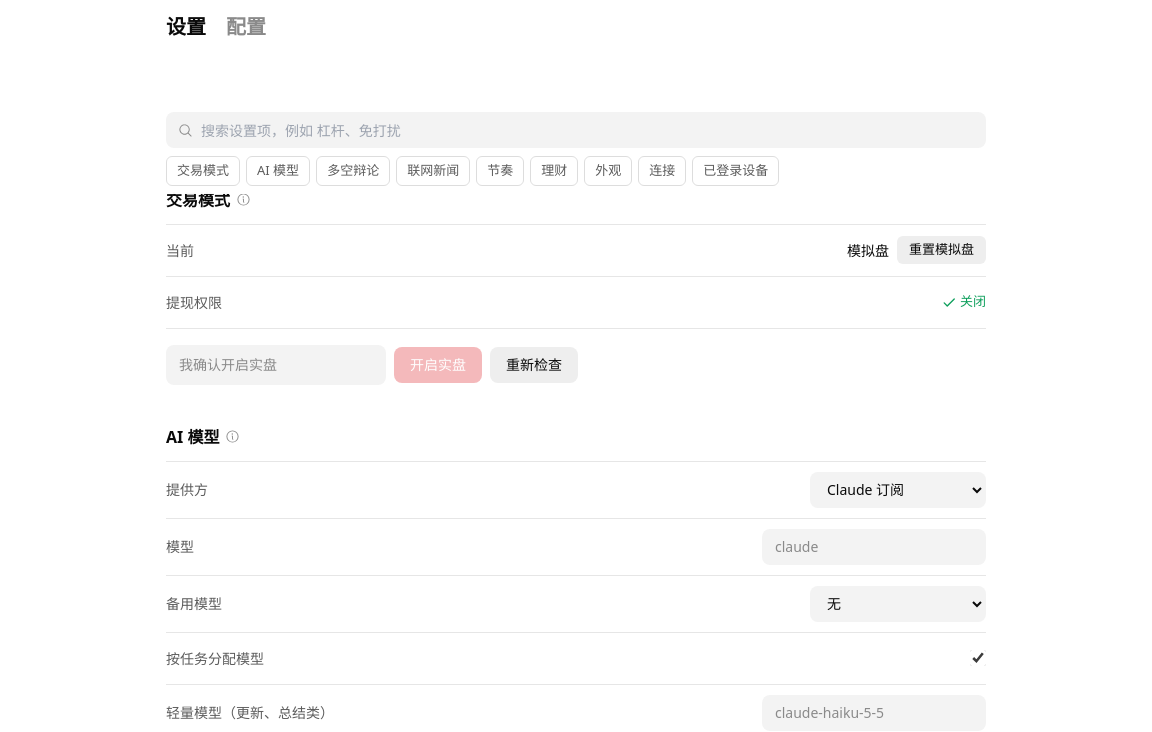
Test: Settings page (设置) › only enables going live once the checks pass and the confirm phrase matches
expect the text "模拟盘" is shown: met, box [847,240,889,260]
expect the text "提现权限" is shown: met, box [166,292,222,312]
Type "我确认" into the field with placeholder "我确认开启实盘". click: (276, 364)
box: [166,344,386,384]
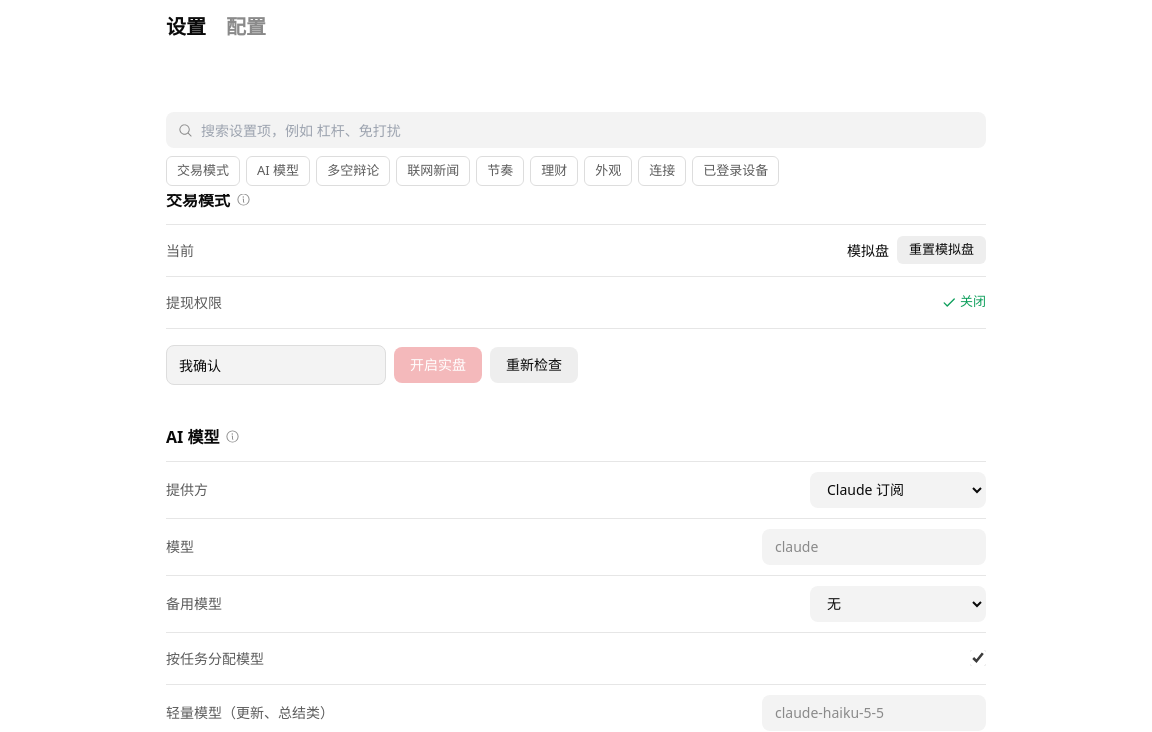
expect the button "开启实盘" is disabled: met, box [394,346,482,382]
Type "开启实盘" into the field with placeholder "我确认开启实盘". click: (276, 364)
box: [166,344,386,384]
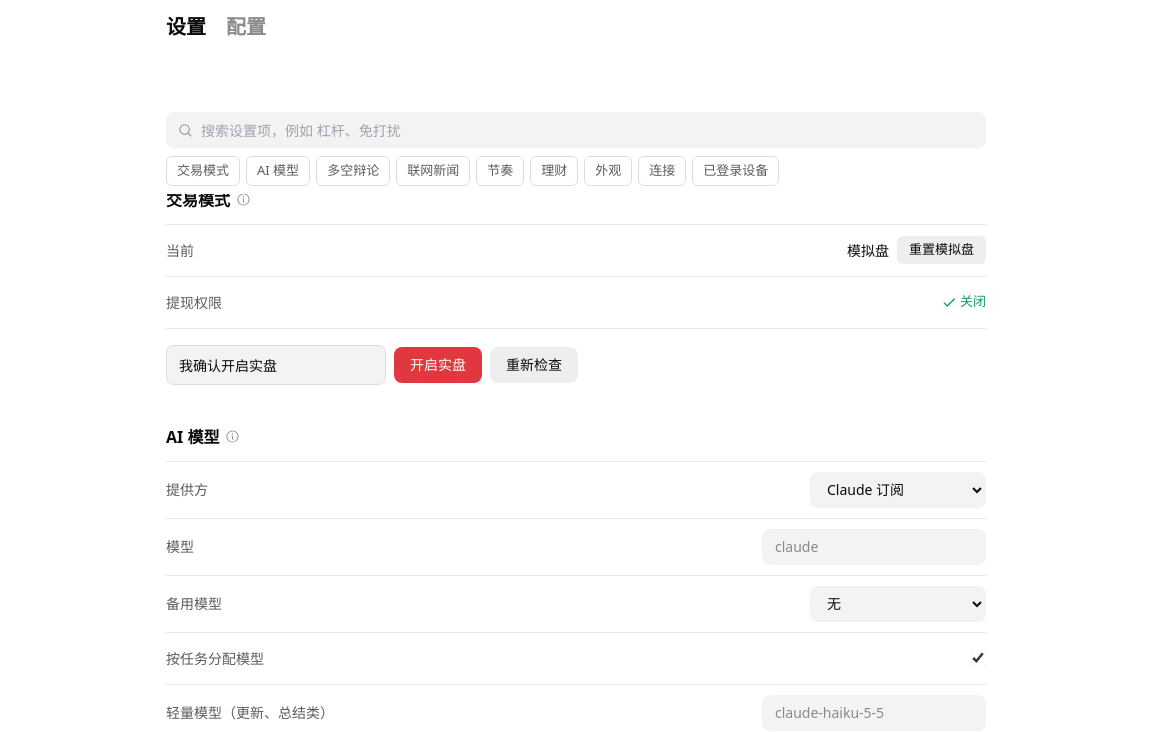
expect the button "开启实盘" is enabled: met
Click the button "开启实盘". click: (438, 364)
box: [394,346,482,382]
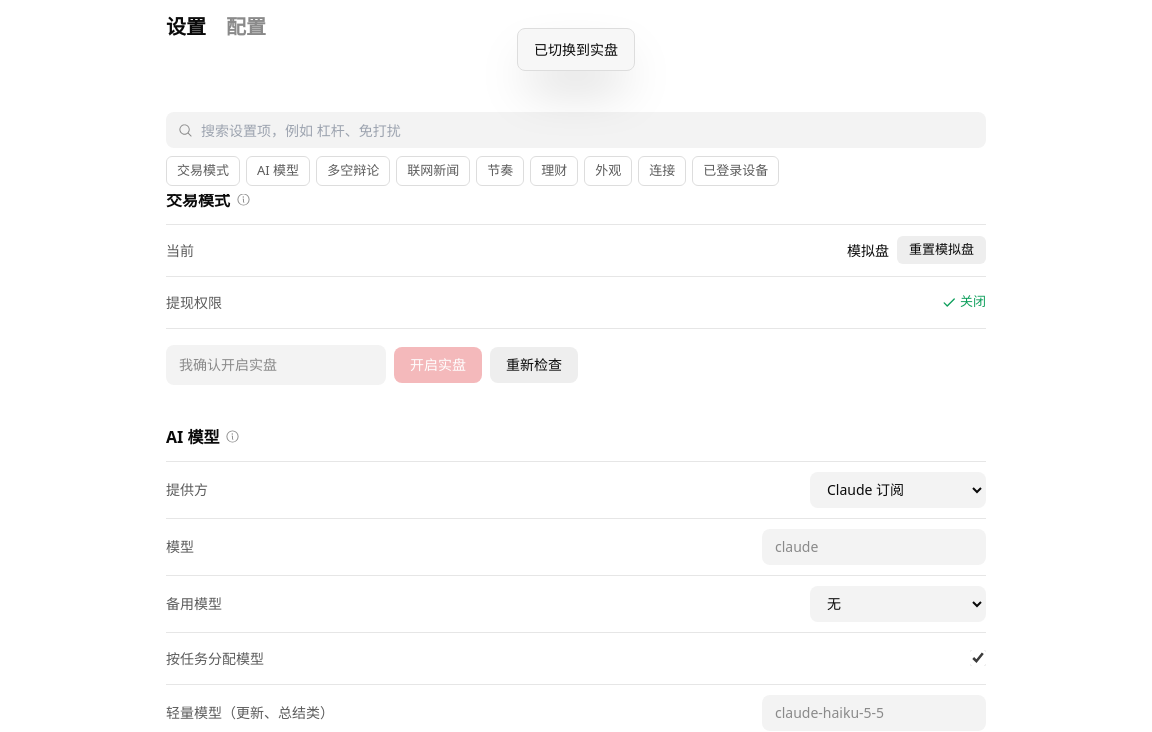
expect the message reads "已切换到实盘": met, box [534,40,618,59]
expect the field with placeholder "我确认开启实盘" is empty: met, box [166,344,386,384]
